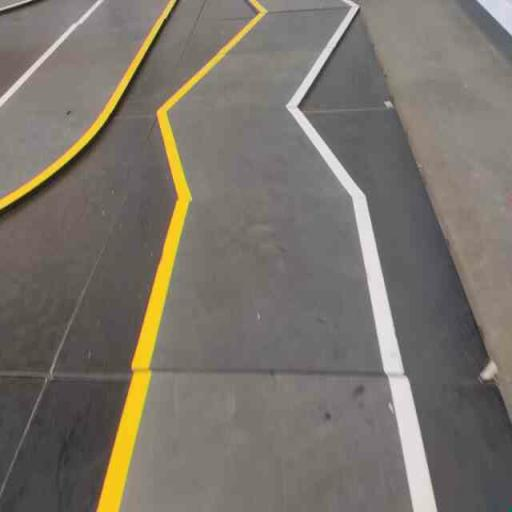straight: (88, 373, 450, 511)
